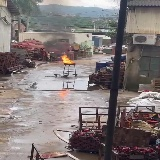fire: (60, 55, 74, 64)
